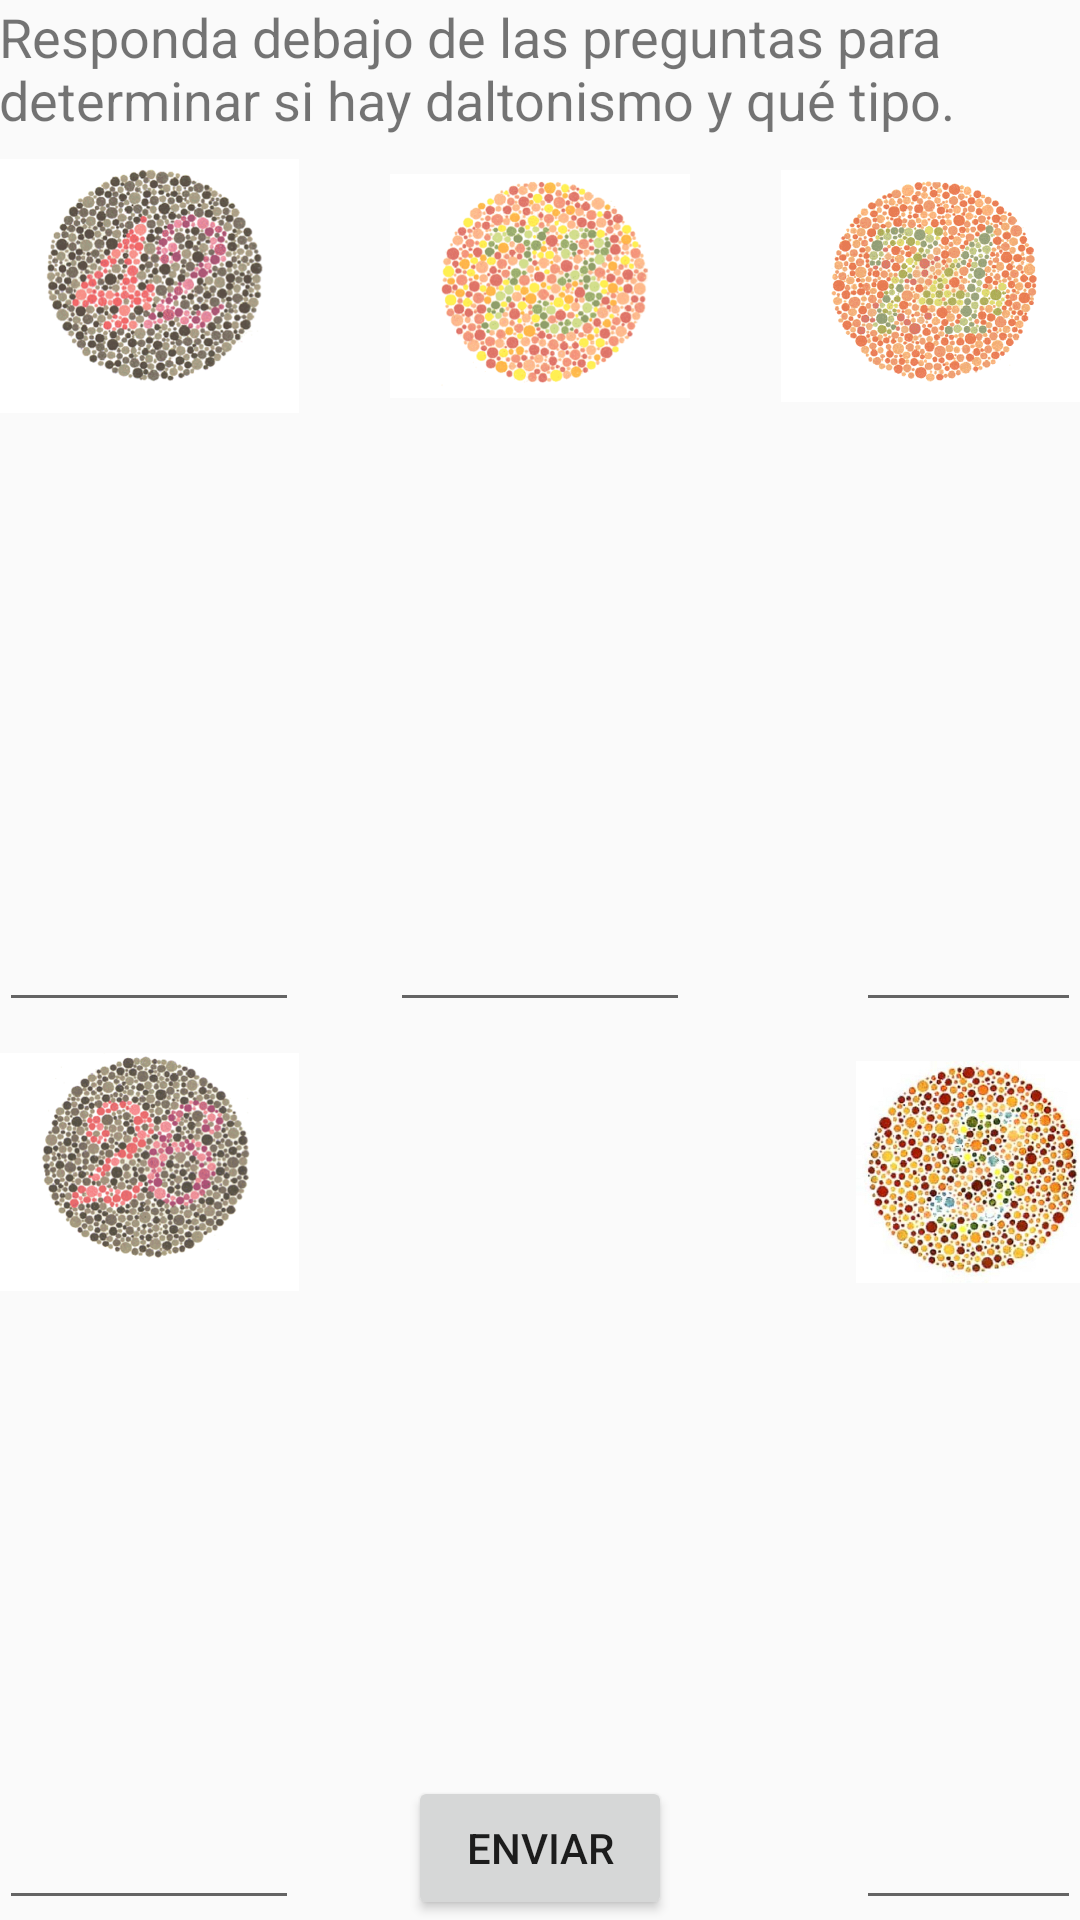

Icon click points for this 1080px x 1920px phone screenshot, format point (x, y):
26ok 6protanopia 2protanomalia: point (145, 1157)
42ok 2protanopia: point (155, 275)
5ok 2daltonico rojoverde: point (972, 1169)
73ok nulldaltonico: point (544, 282)
